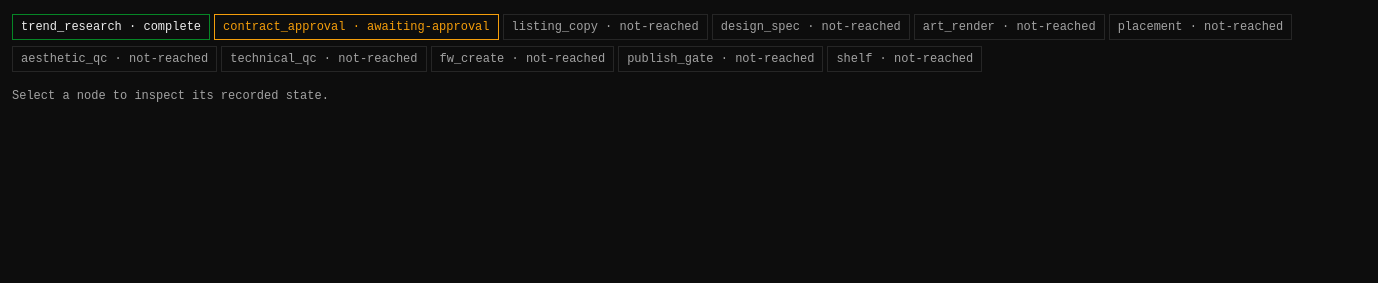
it: RunDetailView › opens a node panel with recorded state
Click the button titled "contract_approval: awaiting-approval": click(356, 27) [214, 14, 498, 40]
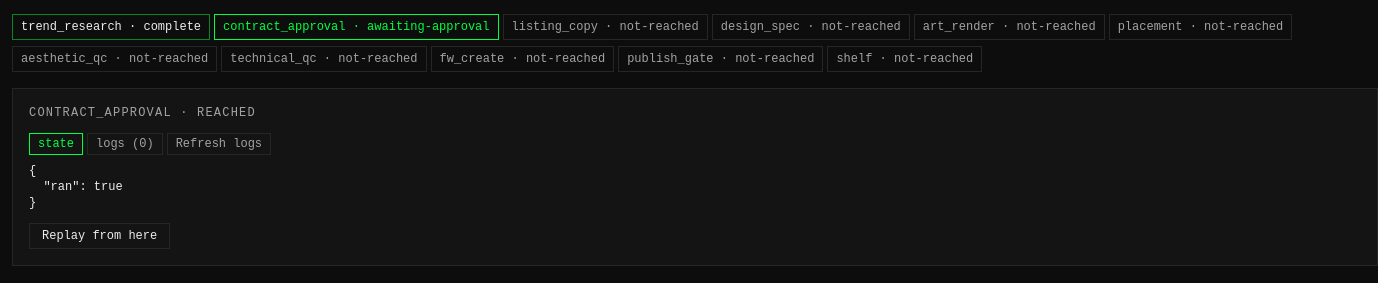
Expected: the text "{ \"ran\": true }" is shown, [29, 164, 123, 210]
